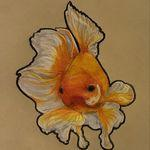goldfish: (25, 19, 136, 140)
